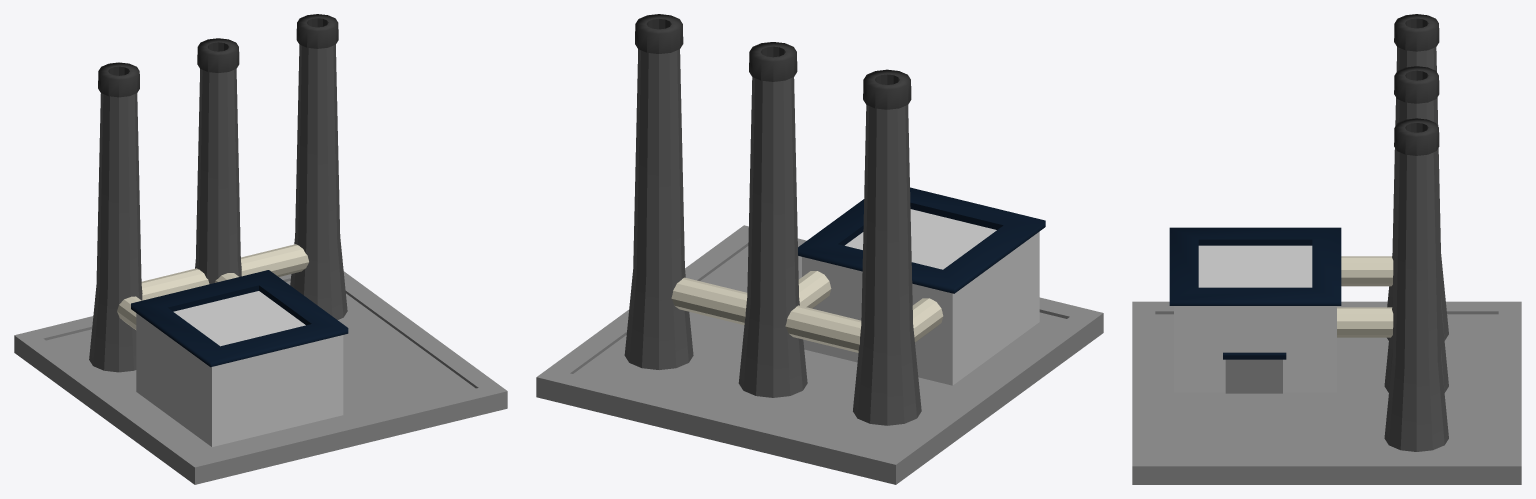
The model's file is CoalFactory_Model.fbx.
3 renders of one model, left to right at view 1: azimuth 30°, elevation 25°; view 2: azimuth 150°, elevation 25°; view 3: azimuth 270°, elevation 25°, orthographic. The views are drawn at different scales.
Parts seen in each view (by area): view 1: pCylinder5, pCube7, pCube8, pCylinder6; view 2: pCylinder5, pCube7, pCube8, pCylinder6, pCylinder7, pCylinder8; view 3: pCube7, pCube8, pCylinder5, pCube10, pCylinder7, pCylinder8, pCube9.
Part boxes in pixels (bbox=[...]): pCylinder5: bbox=[89, 14, 347, 372]; pCube7: bbox=[14, 271, 507, 484]; pCube8: bbox=[131, 270, 348, 446]; pCylinder6: bbox=[141, 244, 308, 300]; pCylinder5: bbox=[624, 14, 921, 425]; pCube7: bbox=[536, 225, 1103, 484]; pCube8: bbox=[798, 187, 1045, 385]; pCylinder6: bbox=[671, 277, 861, 352]; pCylinder7: bbox=[798, 271, 831, 308]; pCylinder8: bbox=[912, 298, 943, 342]; pCube7: bbox=[1132, 301, 1521, 484]; pCube8: bbox=[1169, 227, 1341, 392]; pCylinder5: bbox=[1384, 14, 1448, 451]; pCube10: bbox=[1225, 359, 1282, 393]; pCylinder7: bbox=[1337, 307, 1393, 337]; pCylinder8: bbox=[1341, 256, 1393, 286]; pCube9: bbox=[1223, 352, 1286, 359].
Bounding box in the file's own units: 22.06 × 20.44 × 22.06.
